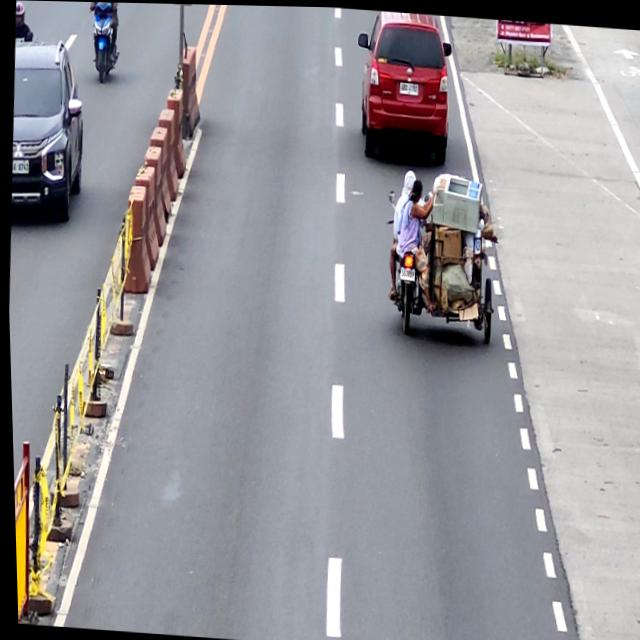Car: (354, 8, 457, 162)
License-Plate: (398, 77, 420, 94), (397, 264, 415, 280)
Tricycle: (381, 184, 500, 341)
